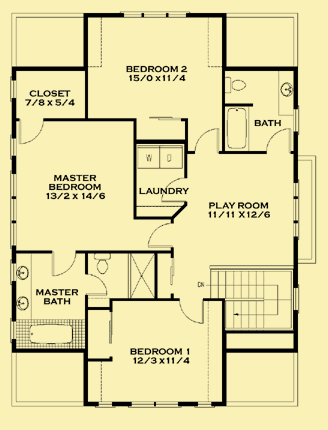door: (176, 295, 207, 329), (48, 248, 80, 279), (191, 125, 221, 158), (143, 221, 177, 250), (18, 115, 47, 148), (158, 174, 190, 203), (264, 125, 292, 158), (83, 271, 109, 301)
large sink: (89, 248, 119, 275), (224, 72, 251, 99)
small sink: (277, 67, 294, 107), (14, 289, 31, 318), (14, 259, 31, 287)
stairs: (207, 262, 294, 334)
tub: (17, 320, 83, 352), (223, 104, 251, 155)
windows: (117, 9, 194, 23), (6, 170, 19, 251), (125, 397, 182, 412), (289, 180, 302, 241), (290, 285, 303, 313), (8, 76, 20, 102), (6, 134, 18, 160)
